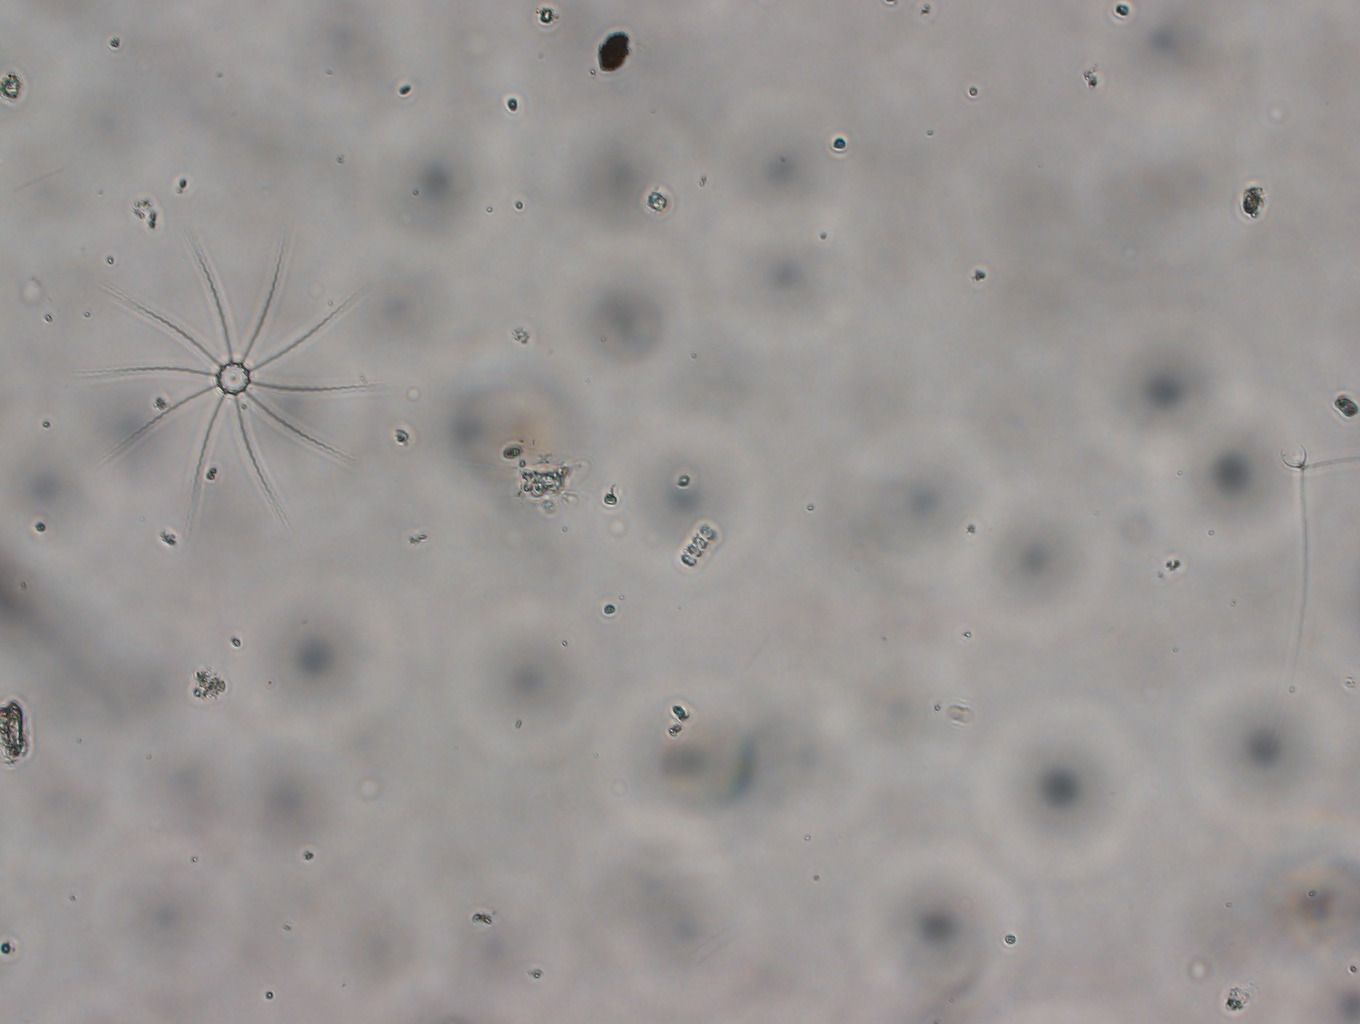bacteriastrum: (95, 219, 380, 514)
